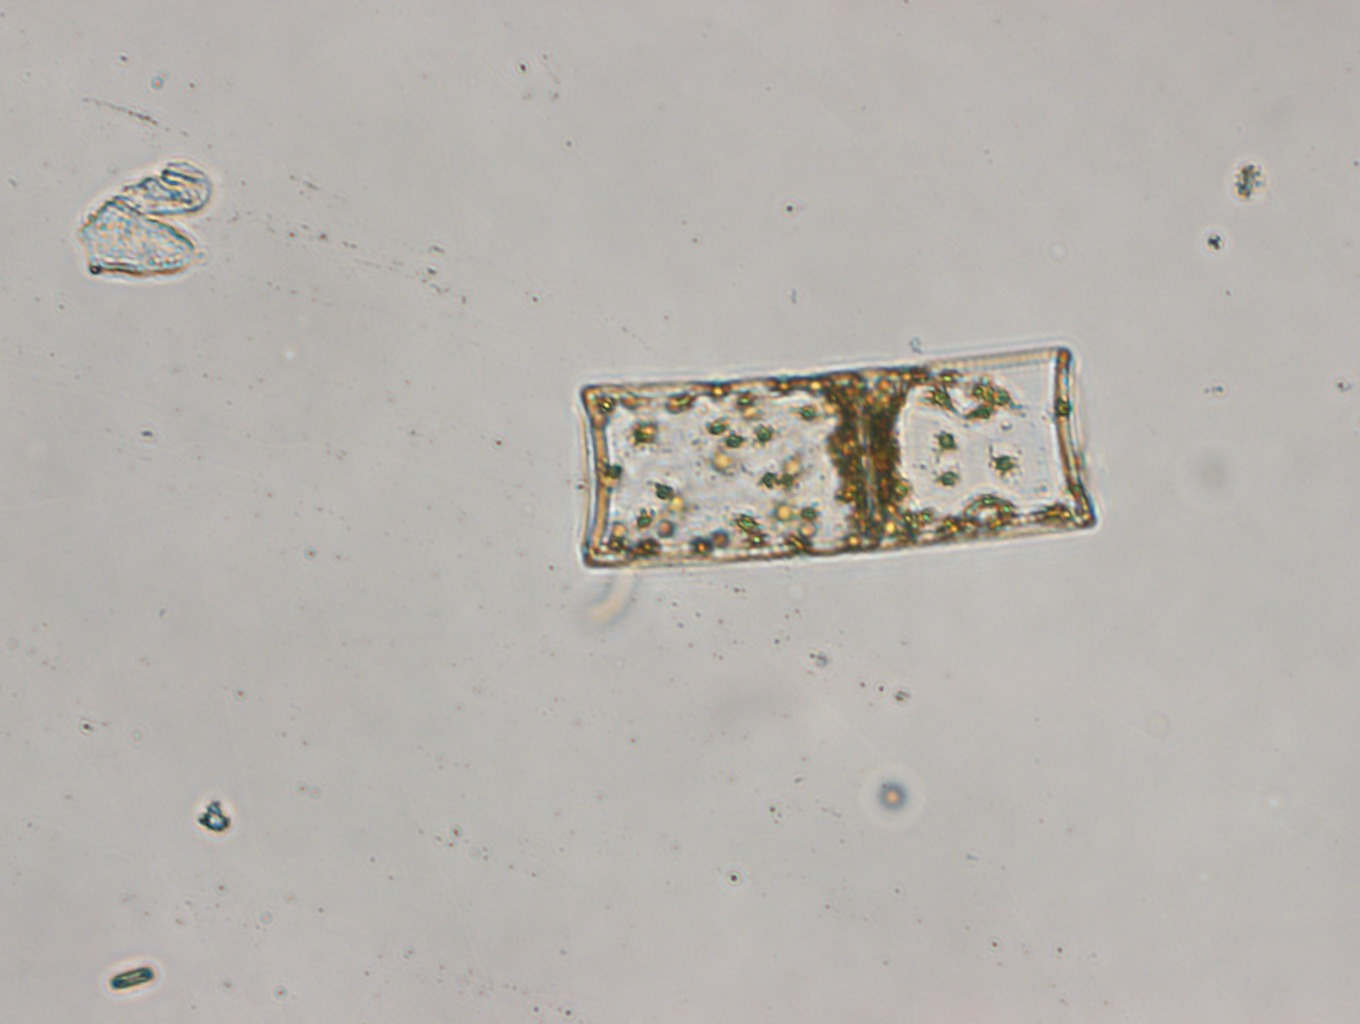guinardia flaccida: (577, 343, 1100, 573)
